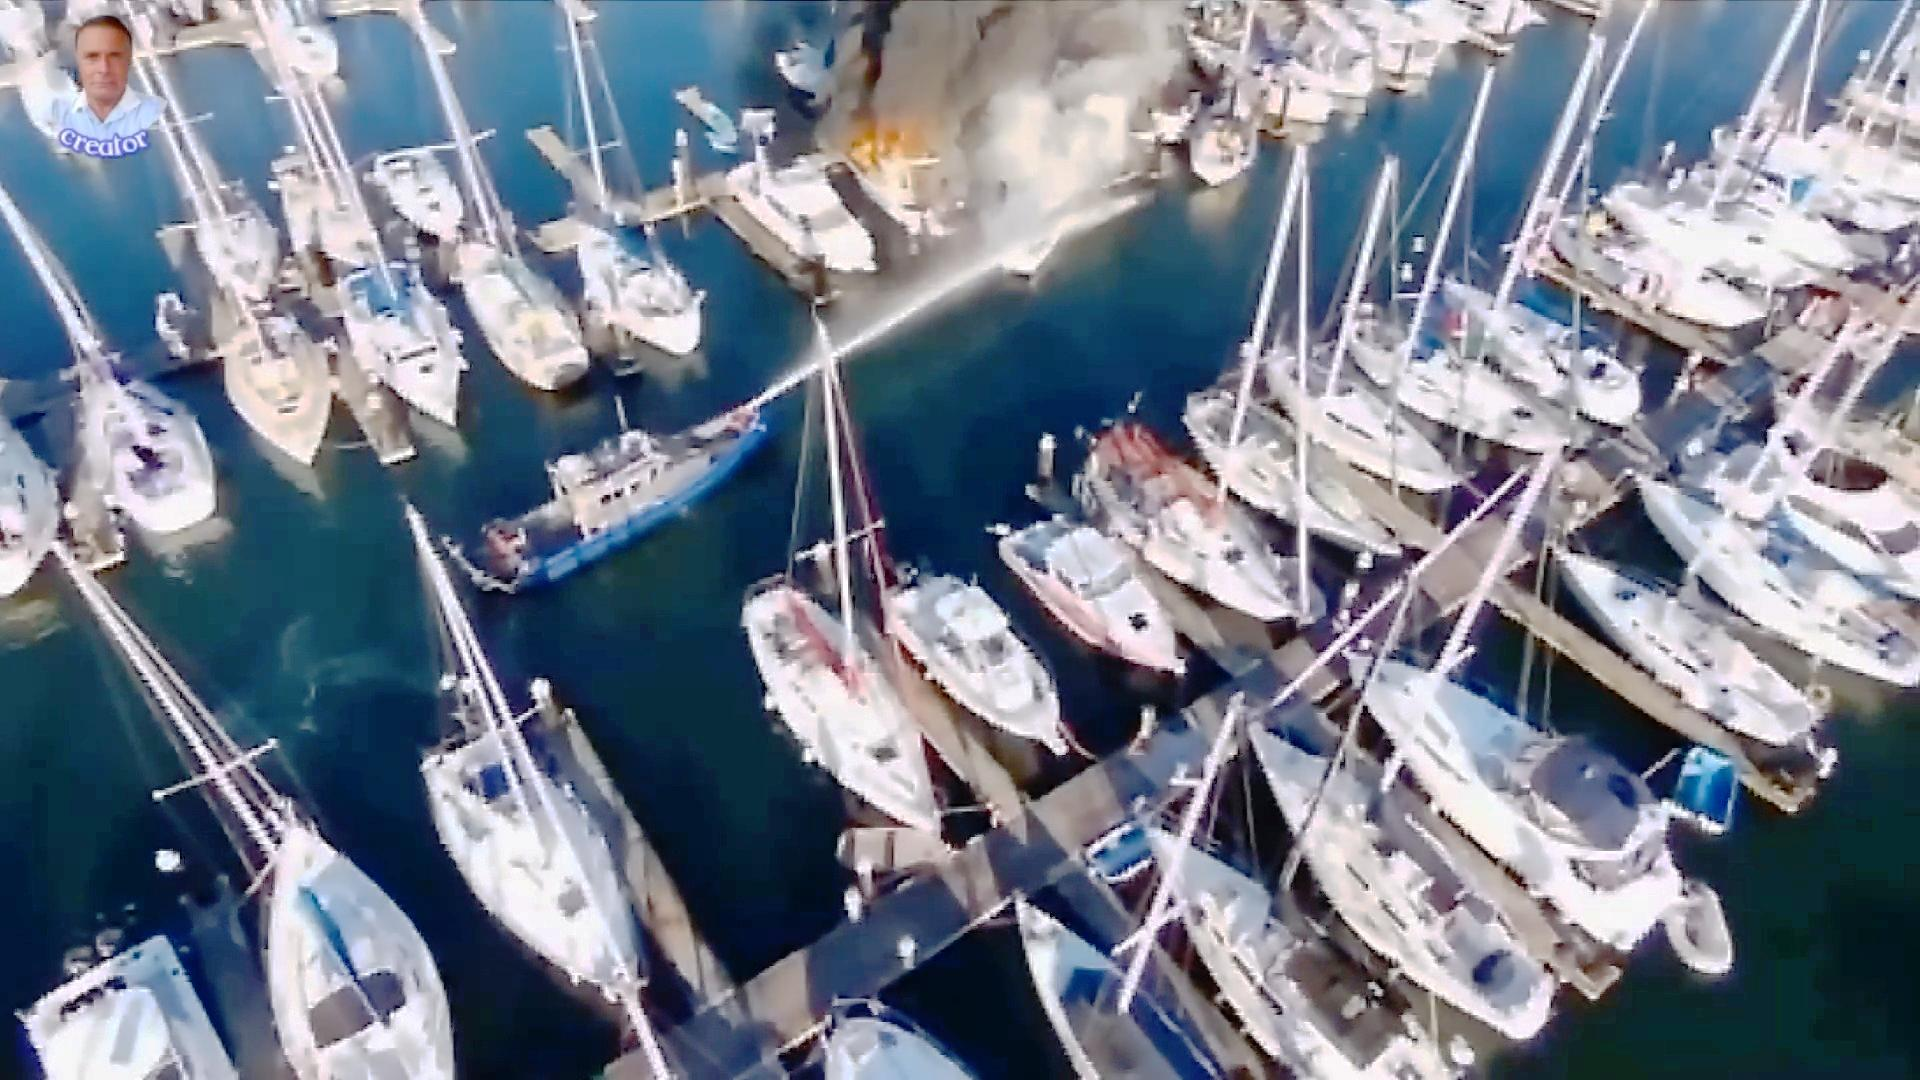smoke: (870, 0, 1106, 113)
